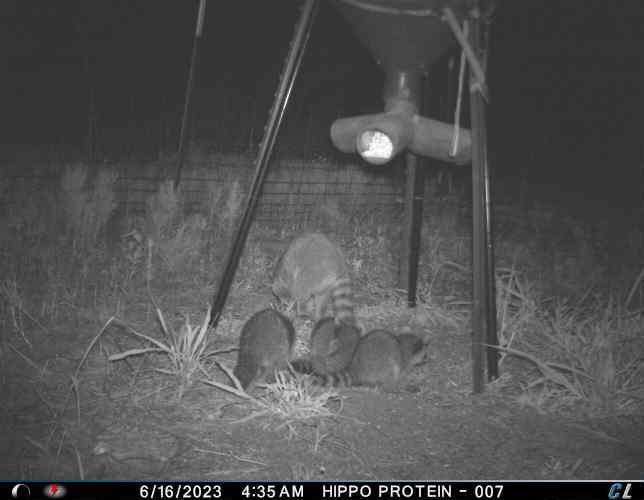Raccoon: (263, 227, 358, 340), (316, 329, 431, 396), (233, 305, 297, 396), (293, 316, 369, 380)
